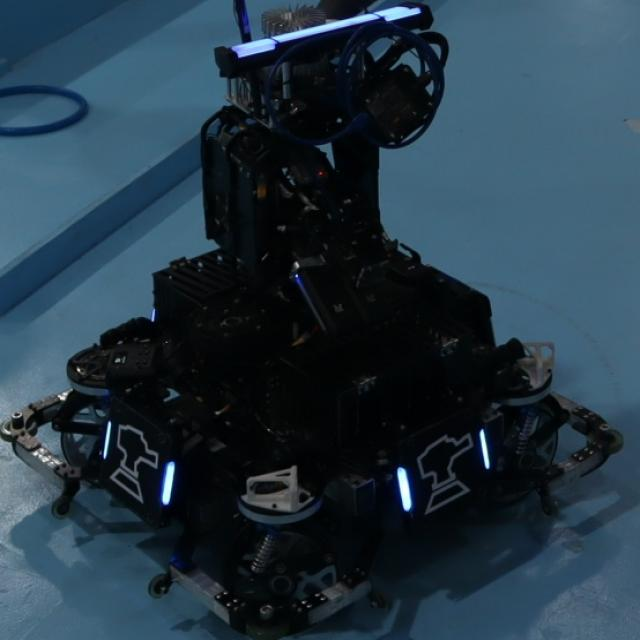Bs: (398, 423, 493, 518), (100, 408, 176, 515)
